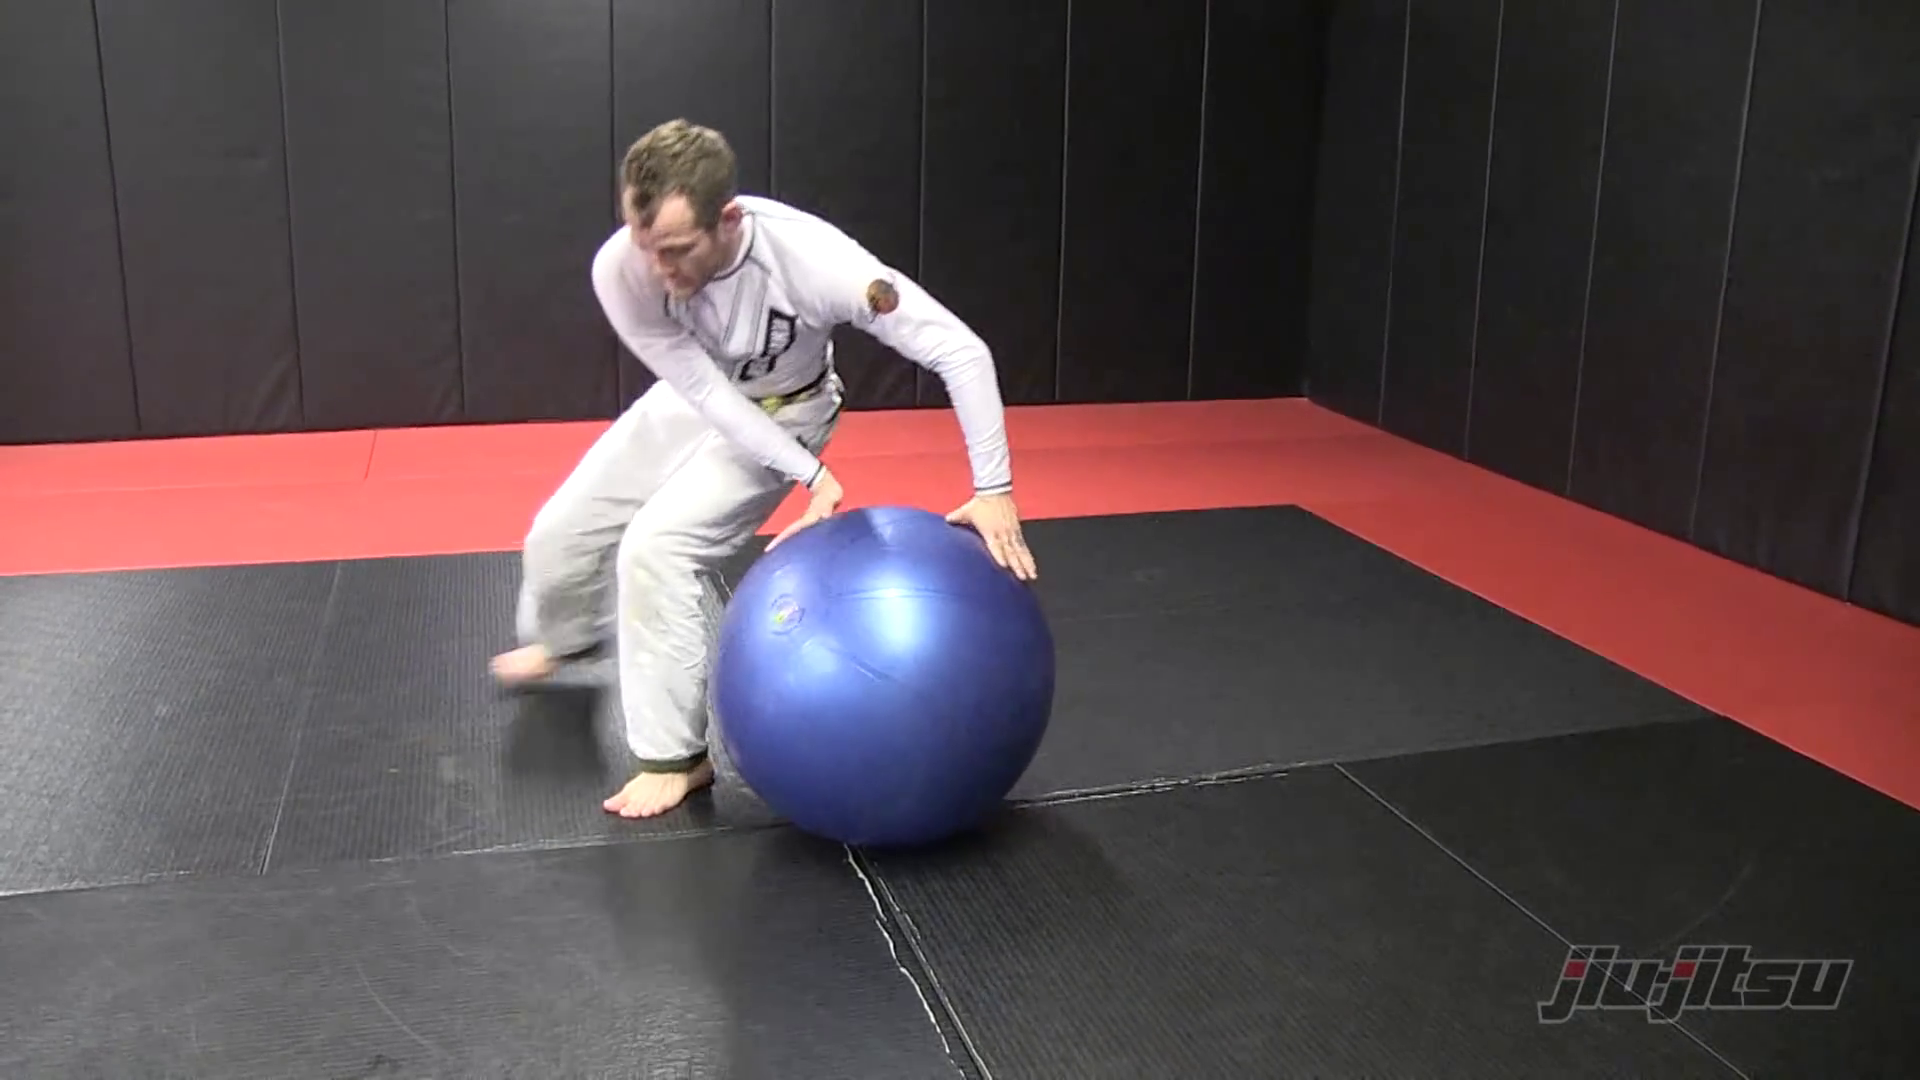yogaball: (705, 500, 1073, 868)
